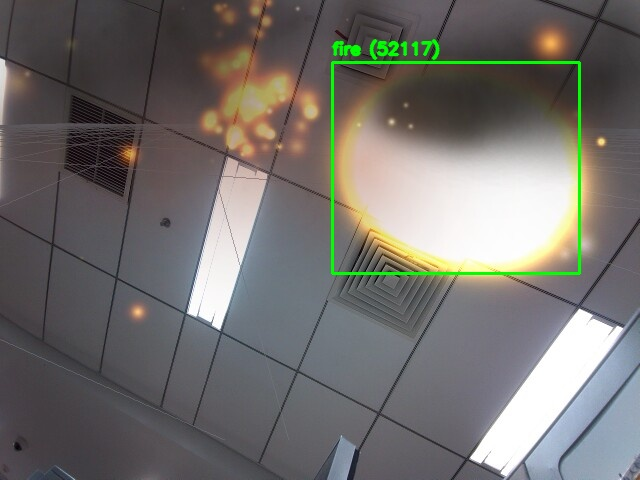fire: (332, 62, 579, 273)
